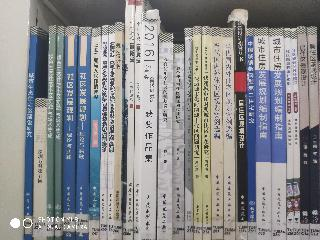book-spine: (141, 13, 156, 239), (63, 27, 78, 239), (76, 27, 91, 239), (270, 29, 285, 239), (158, 34, 172, 240), (123, 1, 135, 239), (256, 29, 269, 238), (24, 27, 36, 239), (282, 29, 294, 240), (235, 10, 246, 239), (308, 27, 319, 240), (298, 27, 309, 239), (211, 29, 222, 239), (223, 30, 234, 239), (90, 29, 100, 239), (173, 45, 183, 239), (47, 25, 56, 239), (134, 1, 142, 240), (201, 28, 210, 239), (246, 29, 255, 239), (193, 27, 201, 240), (34, 99, 46, 239), (292, 29, 300, 239), (56, 27, 63, 239), (186, 29, 193, 239), (101, 26, 107, 239), (116, 24, 121, 239), (109, 26, 114, 239)
